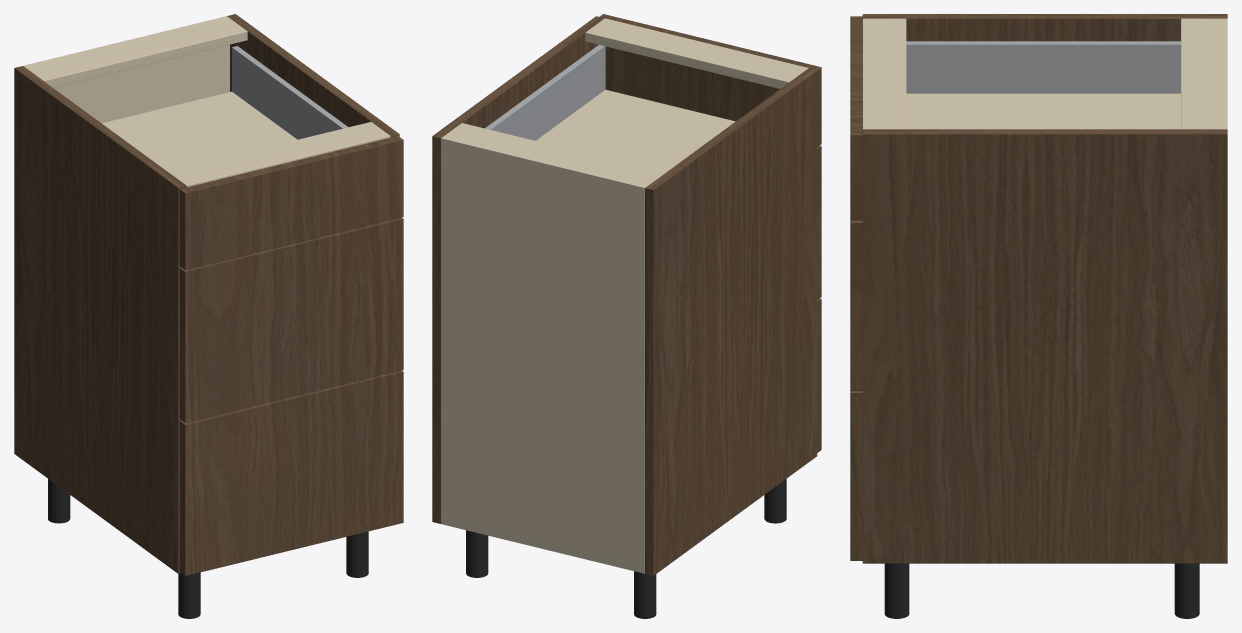
The model's file is oppein-ply-mso-3db18.glb.
3 renders of one model, left to right at view 1: azimuth 30°, elevation 25°; view 2: azimuth 150°, elevation 25°; view 3: azimuth 270°, elevation 25°, orthographic. The views are drawn at different scales.
Visible parts, largest first — view 1: Cabinet side, Drawer front.001, Drawer front, Drawer front.002, Drawer floor.002, Cabinet back, Top support rail, Drawer side.005, Top support rail.001, Cabinet side.001, Adjustable foot.001, Adjustable foot.003 (+1 smaller); view 2: Cabinet back, Cabinet side, Drawer floor.002, Drawer front.002, Cabinet side.001, Top support rail.001, Drawer side.005, Top support rail, Cabinet bottom, Adjustable foot, Adjustable foot.002, Adjustable foot.001 (+2 smaller); view 3: Cabinet side.001, Drawer side.004, Drawer floor.002, Cabinet side, Top support rail.001, Top support rail, Drawer front.002, Drawer front.001, Drawer front, Adjustable foot.002, Adjustable foot.003, Cabinet back.
Part boxes in pixels (x1,y1,x2,y2): Cabinet side: (14,66,186,573); Drawer front.001: (179,217,403,422); Drawer front: (179,370,403,575); Drawer front.002: (179,136,403,269); Drawer floor.002: (102,91,297,171); Cabinet back: (23,16,229,123); Top support rail: (25,18,247,87); Drawer side.005: (232,46,348,139); Top support rail.001: (167,122,390,187); Cabinet side.001: (227,14,399,137); Adjustable foot.001: (178,572,200,618); Adjustable foot.003: (346,531,368,577); Cabinet back: (441,136,647,573); Cabinet side: (645,68,817,575); Drawer floor.002: (536,89,735,172); Drawer front.002: (599,14,821,146); Cabinet side.001: (432,16,604,523); Top support rail.001: (585,18,808,88); Drawer side.005: (485,45,605,140); Top support rail: (444,123,665,185); Cabinet bottom: (441,517,644,573); Adjustable foot: (634,571,656,618); Adjustable foot.002: (466,530,488,577); Adjustable foot.001: (764,479,786,523); Cabinet side.001: (862,129,1227,563); Drawer side.004: (906,41,1180,93); Drawer floor.002: (906,93,1180,129); Cabinet side: (862,14,1227,41); Top support rail.001: (862,18,906,129); Top support rail: (1181,18,1220,129); Drawer front.002: (850,16,862,220); Drawer front.001: (850,220,862,390); Drawer front: (850,391,862,560); Adjustable foot.002: (1174,563,1199,618); Adjustable foot.003: (884,563,909,618); Cabinet back: (1220,18,1227,129).
Bounding box in the file's own units: 0.4572 × 0.8763 × 0.6064.
Materials: 4 (1 with a texture image).
